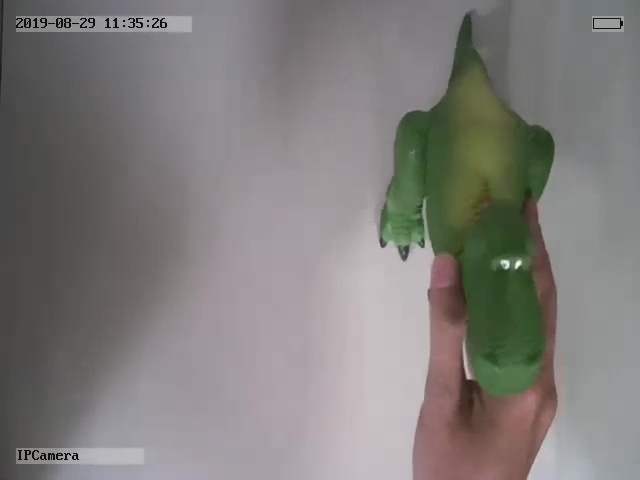rex: (378, 13, 554, 395)
